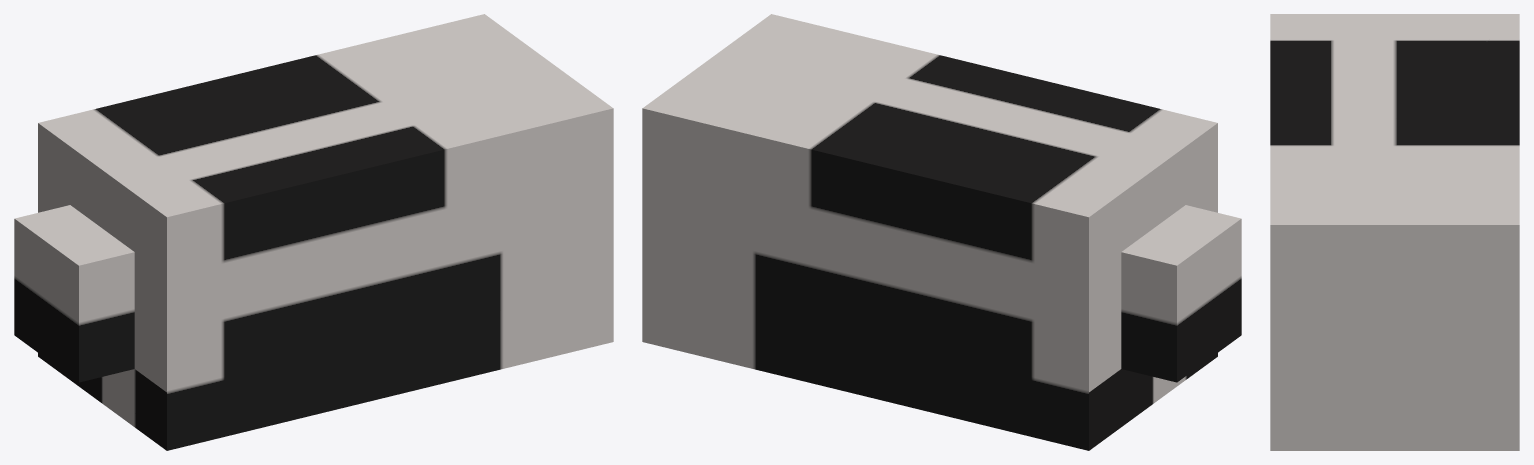
The model's file is Elbow052.fbx.
The picture shows the model from 3 angles, left to right: view 1: azimuth 30°, elevation 25°; view 2: azimuth 150°, elevation 25°; view 3: azimuth 270°, elevation 25°; orthographic projection. The views are drawn at different scales.
Visible parts, largest first — view 1: Elbow052; view 2: Elbow052; view 3: Elbow052.
Part boxes in pixels (x1,y1,x2,y2): Elbow052: (14, 14, 613, 450); Elbow052: (642, 14, 1241, 450); Elbow052: (1270, 14, 1519, 450).
Bounding box in the file's own units: 9 × 4 × 4.
